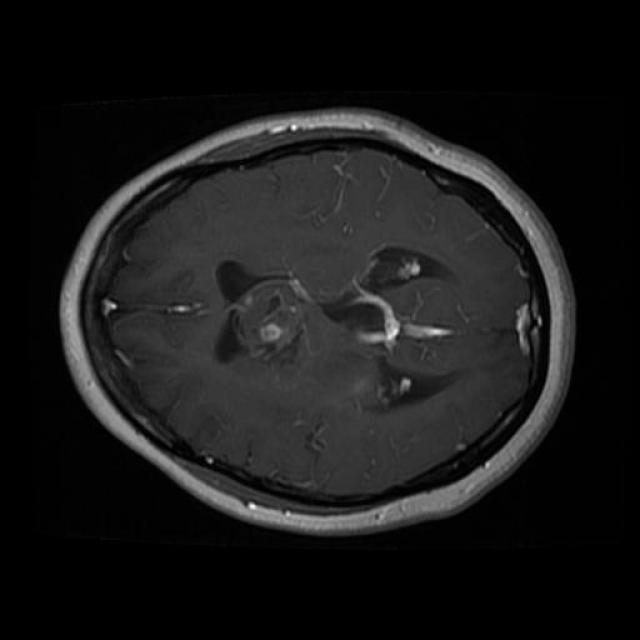Glioma: (227, 275, 454, 358)
